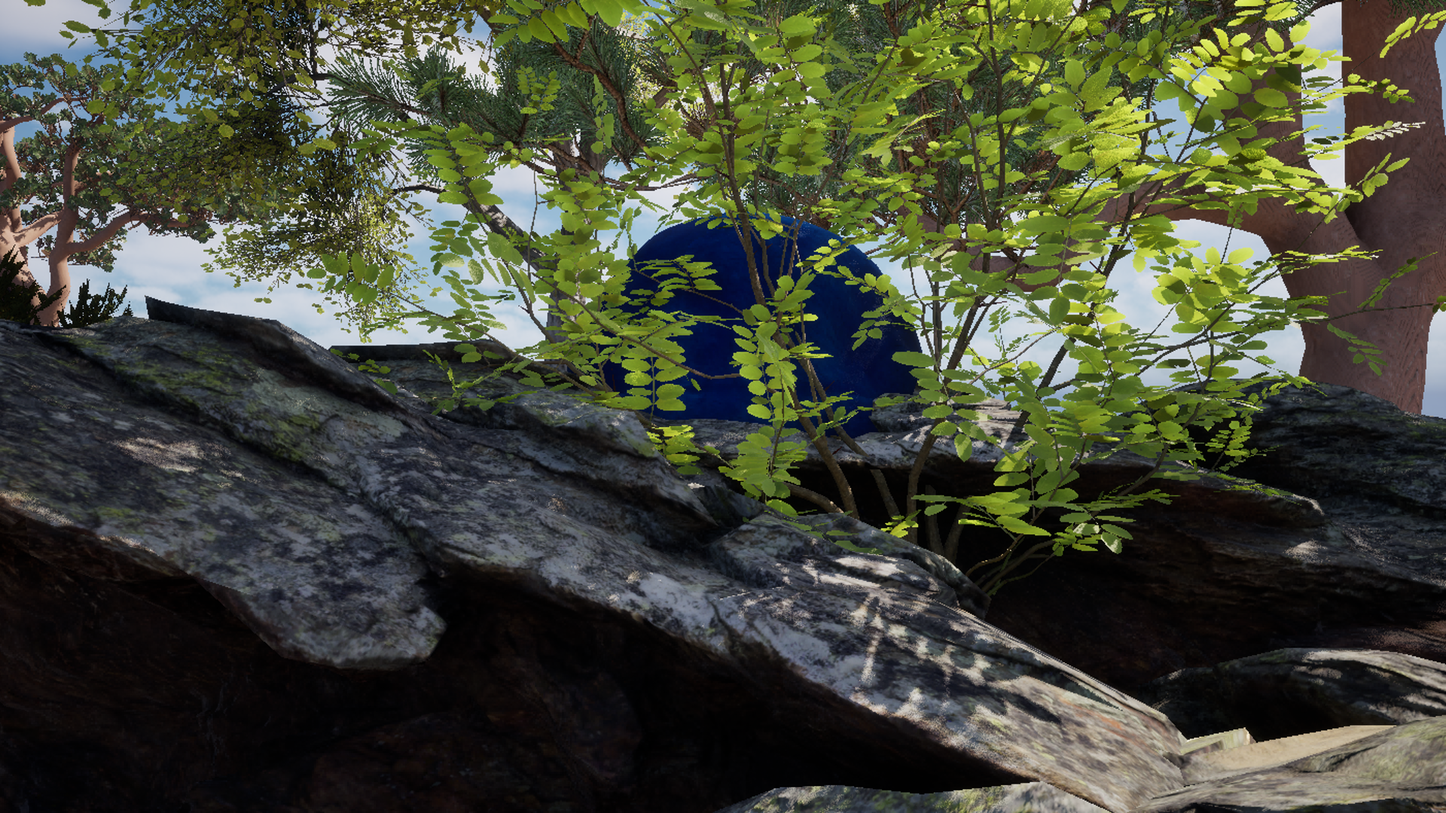Piplup: (380, 30, 1182, 783)
